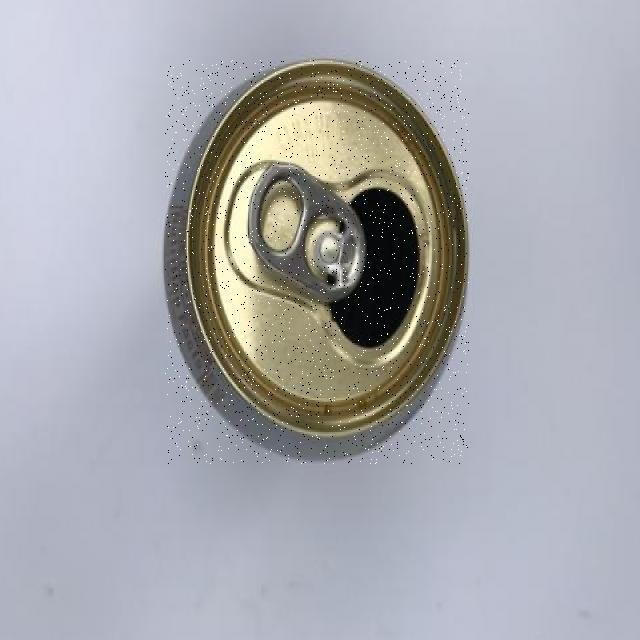metal: (166, 61, 469, 464)
